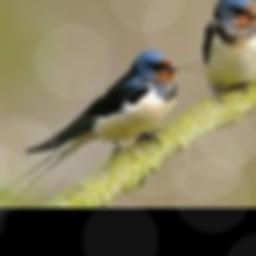Swallow: (0, 51, 180, 204), (202, 0, 256, 96)
